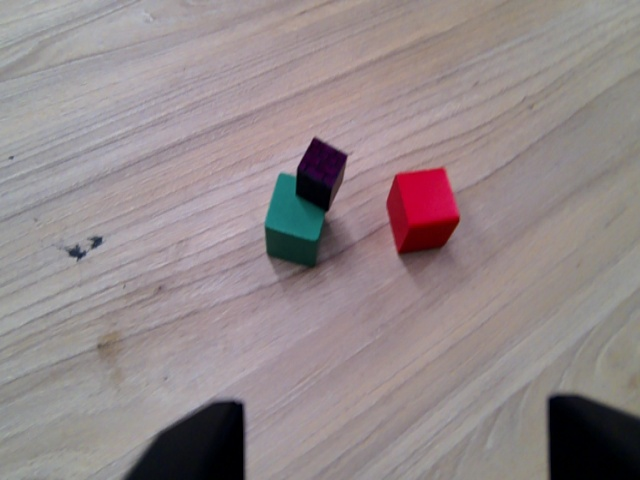brick: (293, 136, 350, 213)
